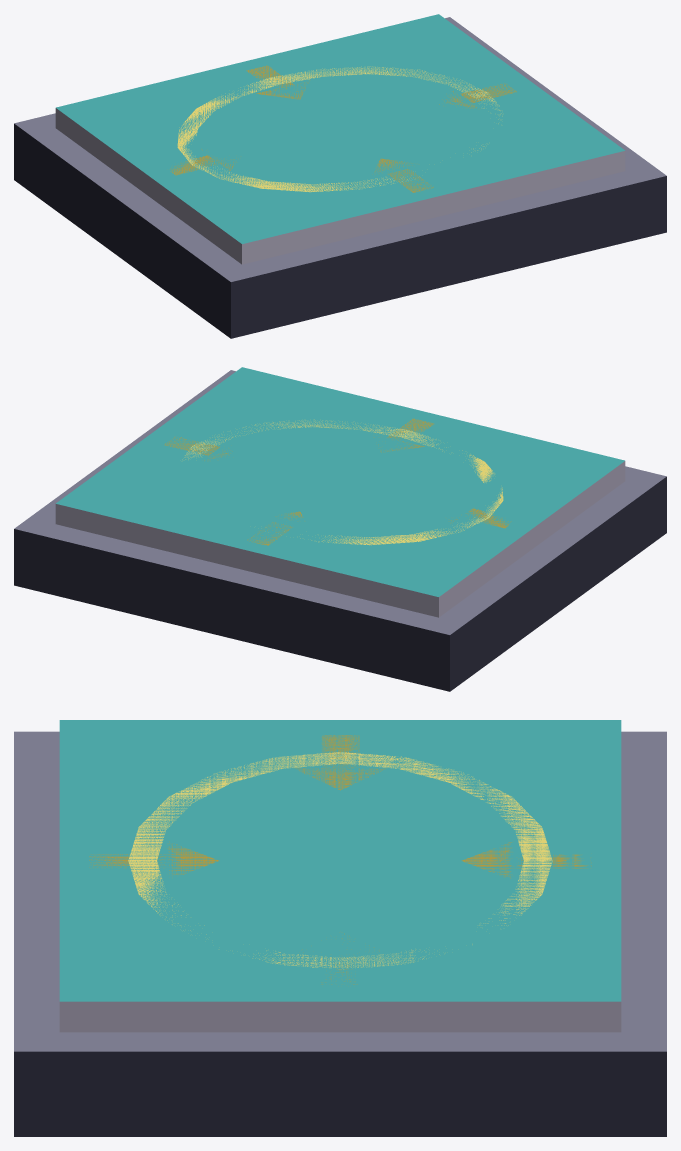
File: star_garden_sinking_platform.obj
3 renders of one model, top to bottom at view 1: azimuth 30°, elevation 25°; view 2: azimuth 150°, elevation 25°; view 3: azimuth 270°, elevation 25°, orthographic. The views are drawn at different scales.
Parts seen in each view (by area): view 1: star_garden_sinking_platform; view 2: star_garden_sinking_platform; view 3: star_garden_sinking_platform.
Part boxes in pixels (<box>): star_garden_sinking_platform: <box>14,14,666,338</box>; star_garden_sinking_platform: <box>14,367,666,691</box>; star_garden_sinking_platform: <box>14,720,666,1136</box>.
Bounding box in the file's own units: 11.6 × 1.96 × 10.
